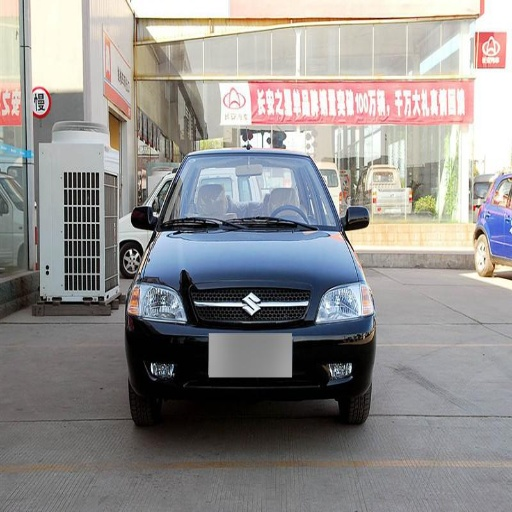front_bumper: (127, 290, 374, 414)
front_right_light: (129, 278, 187, 322)
hood: (147, 230, 359, 293)
